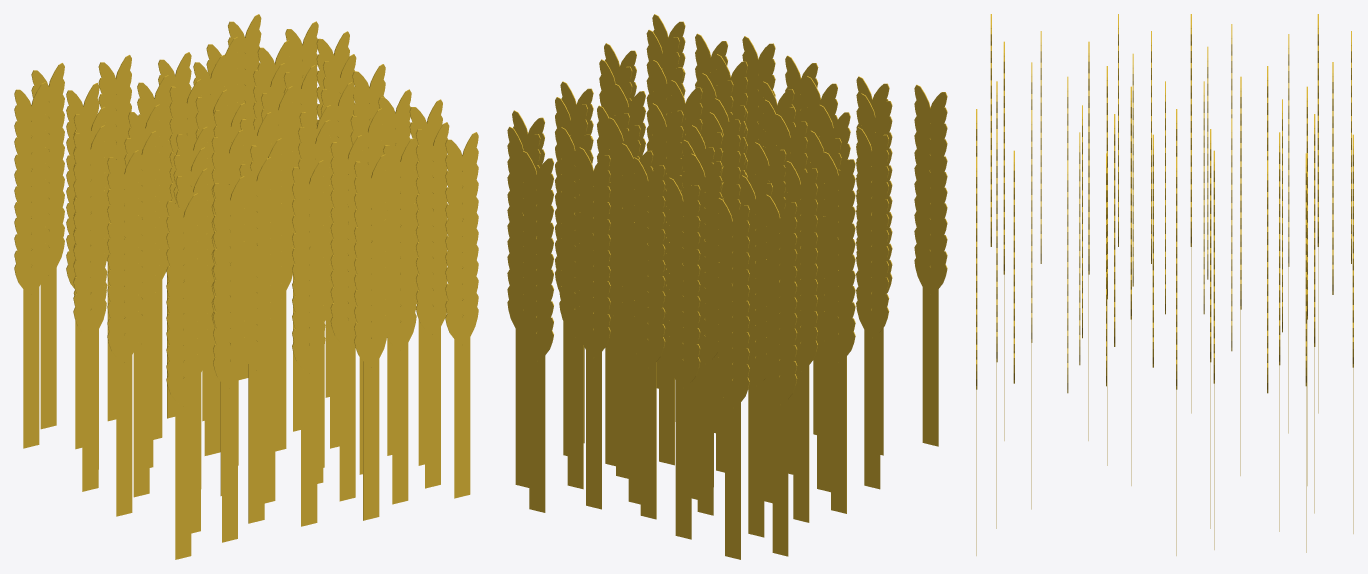
Rendered from BarleyField.fbx.
3 views of the same model, side by side, from view 1: azimuth 30°, elevation 25°; view 2: azimuth 150°, elevation 25°; view 3: azimuth 270°, elevation 25° (orthographic). The views are drawn at different scales.
Visible parts, largest first — view 1: Barley; view 2: Barley; view 3: Barley.
Part boxes in pixels (<box>): Barley: <box>14,14,478,559</box>; Barley: <box>507,14,947,559</box>; Barley: <box>976,14,1353,555</box>.
Bounding box in the file's own units: 192 × 212 × 187.
